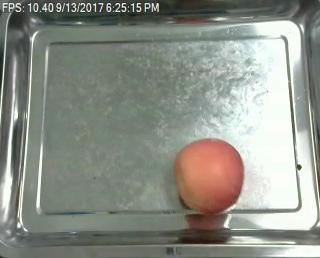apple: (176, 138, 245, 214)
